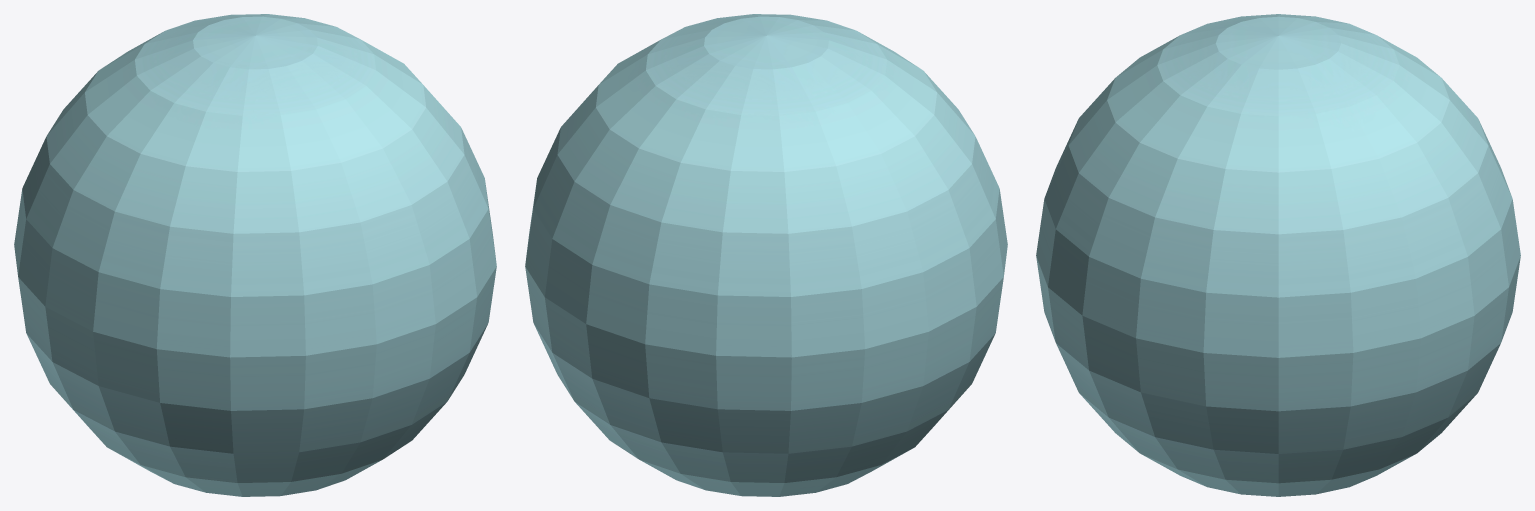
File: Urano.glb
3 views of the same model, side by side, from view 1: azimuth 30°, elevation 25°; view 2: azimuth 150°, elevation 25°; view 3: azimuth 270°, elevation 25° (orthographic).
Parts seen in each view (by area): view 1: Urano; view 2: Urano; view 3: Urano.
Boxes of the visible parts, x1,y1,x2,y2 form: Urano: (14, 14, 496, 496); Urano: (525, 14, 1007, 496); Urano: (1036, 14, 1520, 496).
Bounding box in the file's own units: 3.29 × 3.28 × 3.29.
1 material, 1 textured.
